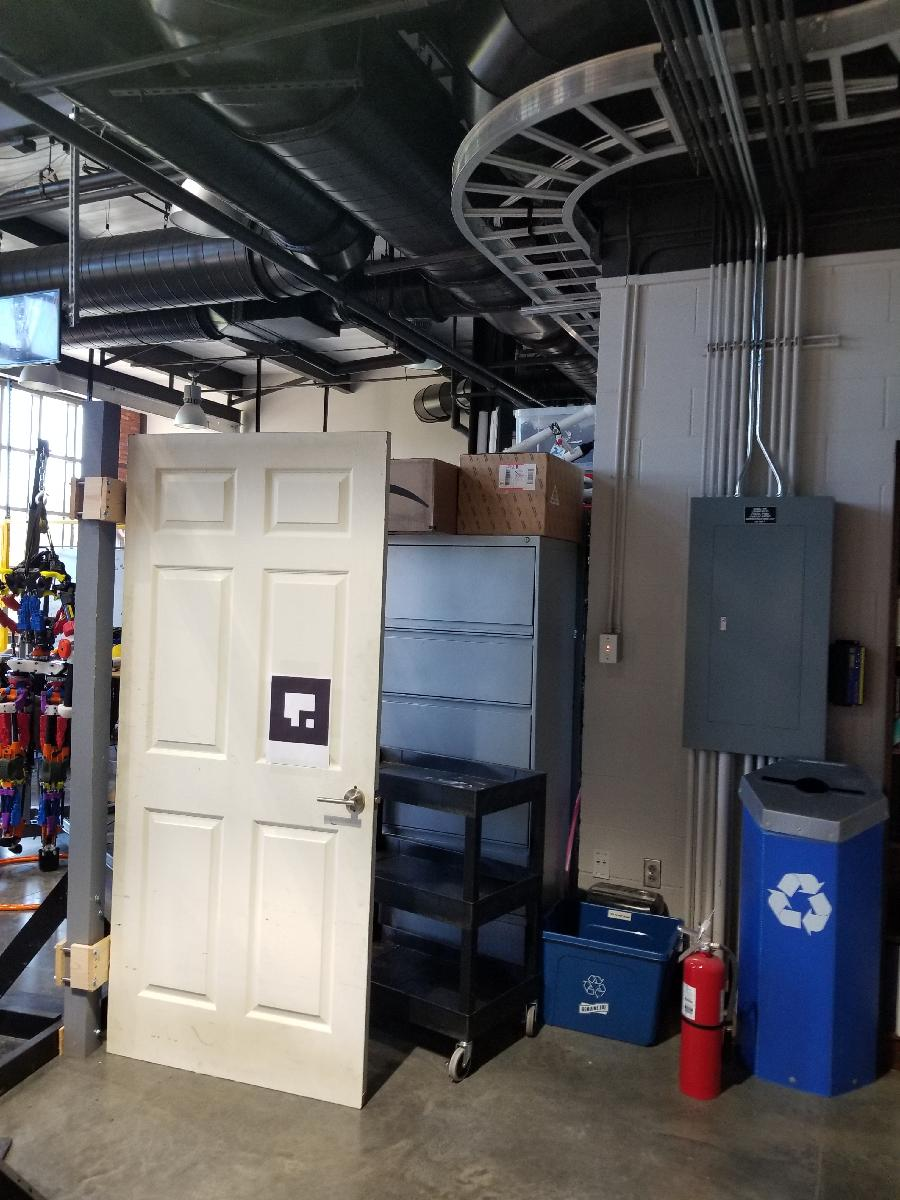door: (103, 430, 395, 1114)
doorHandle: (317, 785, 369, 819)
